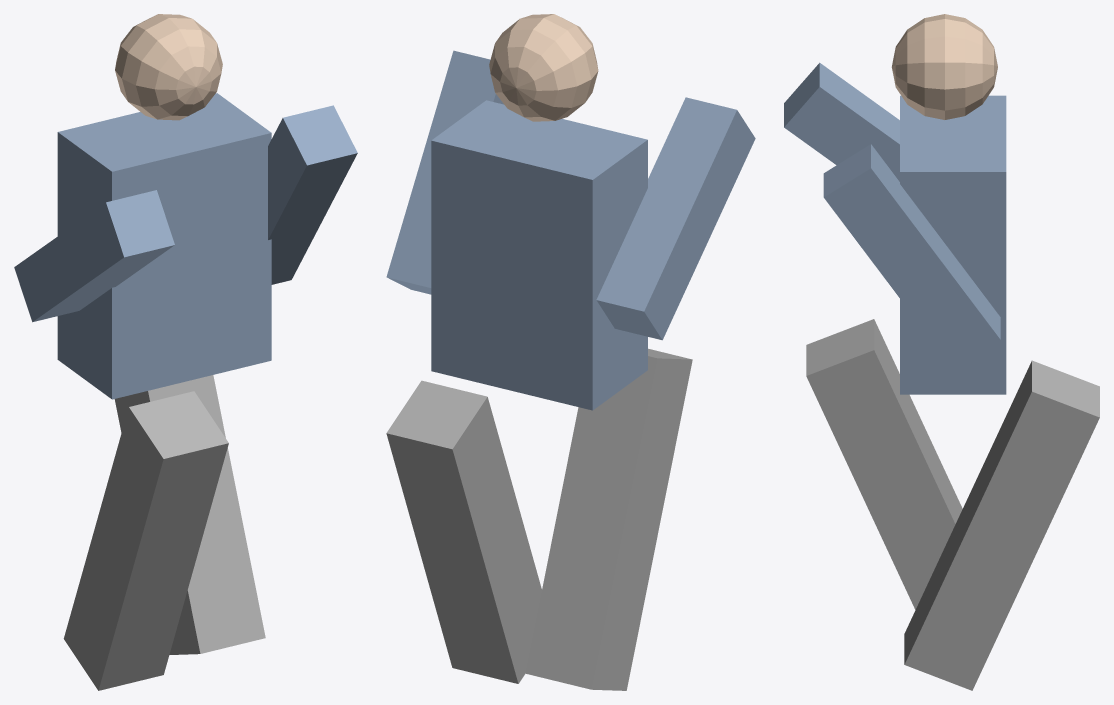
File: obstacle_mantle.glb
3 views of the same model, side by side, from view 1: azimuth 30°, elevation 25°; view 2: azimuth 150°, elevation 25°; view 3: azimuth 270°, elevation 25° (orthographic). The views are drawn at different scales.
Visible parts, largest first — view 1: torso, leg_l, leg_r, arm_l, arm_r, head; view 2: torso, leg_l, leg_r, arm_l, head, arm_r; view 3: leg_r, torso, leg_l, arm_r, head, arm_l.
Boxes of the visible parts, box(x1,y1,x2,y2) form: torso: box(57, 93, 271, 399); leg_l: box(63, 391, 228, 690); leg_r: box(114, 375, 265, 654); arm_l: box(14, 190, 174, 322); arm_r: box(268, 105, 357, 284); head: box(115, 14, 222, 120); torso: box(431, 100, 647, 410); leg_l: box(525, 348, 692, 690); leg_r: box(386, 380, 541, 683); arm_l: box(596, 97, 755, 340); head: box(489, 14, 598, 121); arm_r: box(386, 50, 503, 294); leg_r: box(904, 360, 1099, 690); torso: box(900, 95, 1006, 394); leg_l: box(806, 319, 962, 609); arm_r: box(823, 144, 1000, 368); head: box(891, 14, 997, 119); arm_l: box(784, 62, 899, 181).
Bounding box in the file's own units: 0.7001 × 1.71 × 0.7716.
